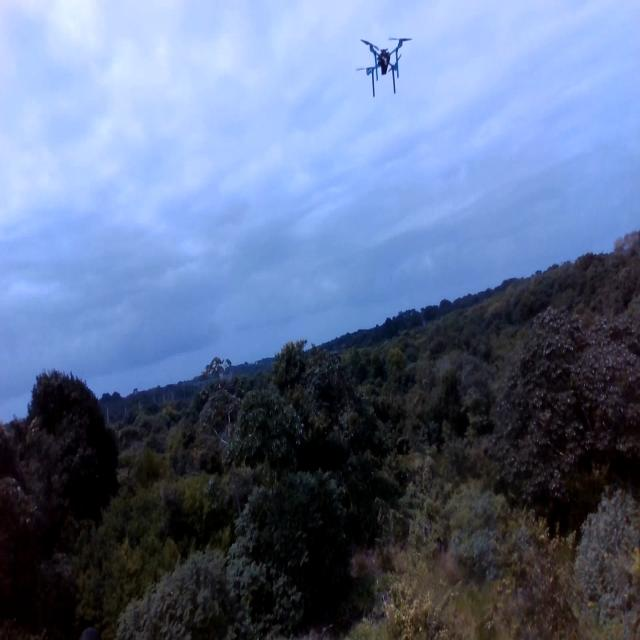-uav-: (352, 22, 418, 107)
